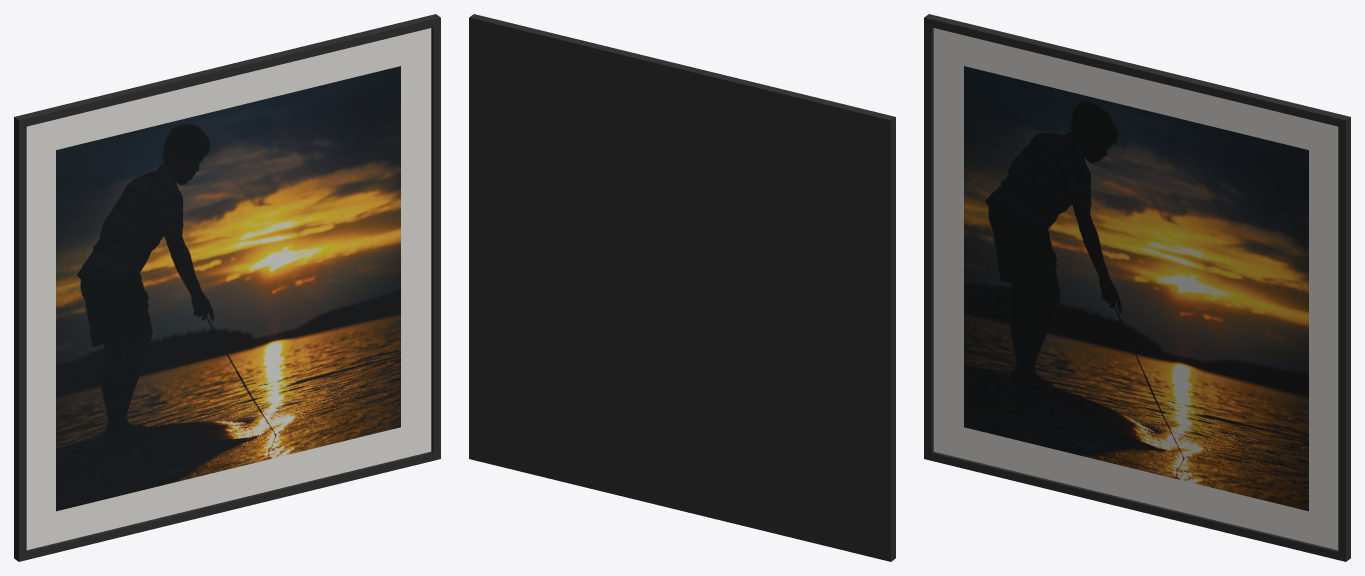
Rendered from pinnen-90.gltf.
3 renders of one model, left to right at view 1: azimuth 30°, elevation 25°; view 2: azimuth 150°, elevation 25°; view 3: azimuth 330°, elevation 25°, orthographic.
Parts seen in each view (by area): view 1: tavla; view 2: tavla; view 3: tavla.
Boxes of the visible parts, x1=… form: tavla: x1=14, y1=14, x2=440, y2=561; tavla: x1=469, y1=14, x2=895, y2=561; tavla: x1=924, y1=14, x2=1350, y2=561.
Size of the model in its own units: 1.1 by 1.1 by 0.022.
3 materials, 1 textured.
